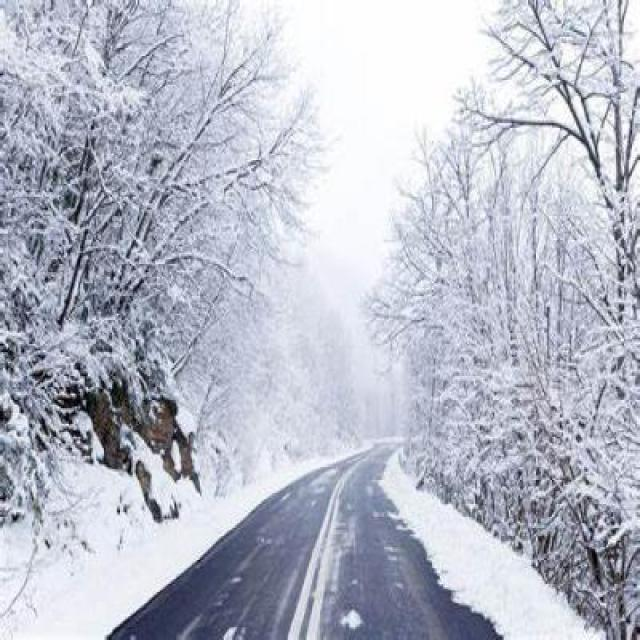ice-road: (109, 458, 360, 639), (319, 445, 500, 640)
